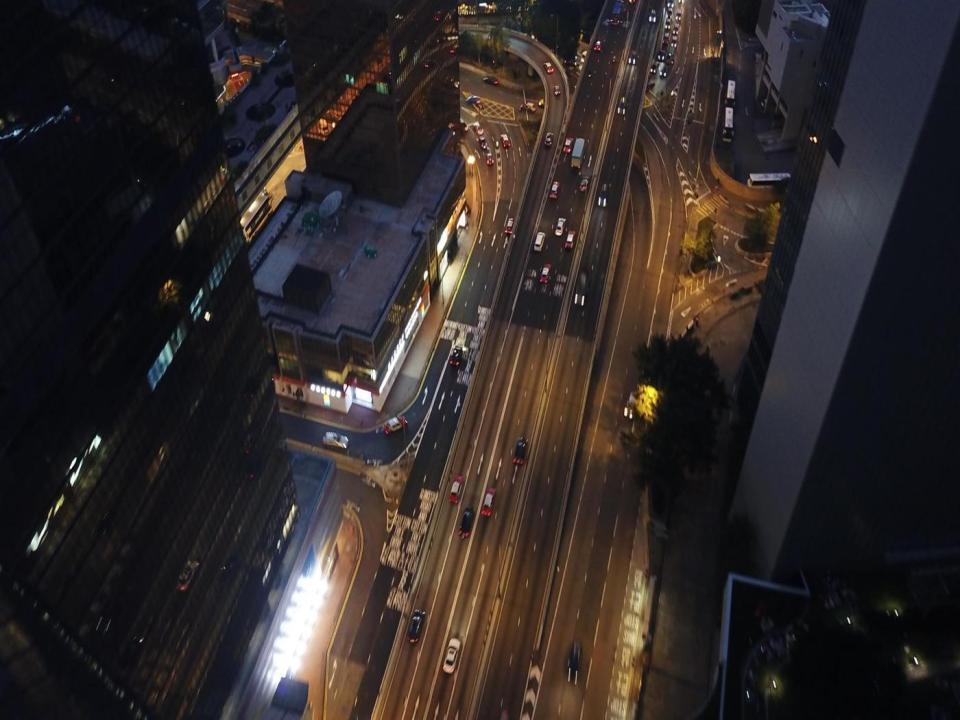bus: (747, 173, 792, 187), (569, 137, 584, 168), (723, 107, 734, 142), (610, 0, 624, 25), (725, 79, 736, 108)
car: (442, 638, 461, 673), (567, 642, 582, 684), (406, 608, 424, 642), (321, 432, 350, 452), (459, 506, 474, 539), (512, 438, 528, 466), (480, 488, 496, 516), (448, 474, 463, 503), (382, 416, 406, 434), (624, 390, 637, 419), (450, 346, 462, 368), (564, 229, 576, 248), (554, 218, 566, 235), (599, 184, 608, 206), (504, 217, 516, 233), (548, 181, 560, 197), (519, 102, 538, 112), (540, 263, 550, 282), (482, 74, 499, 85), (563, 137, 573, 152), (579, 175, 589, 190), (465, 94, 481, 103), (618, 96, 626, 114), (545, 132, 554, 146), (650, 60, 659, 74), (543, 62, 554, 73), (478, 134, 486, 149), (485, 152, 494, 165), (500, 134, 509, 147), (628, 49, 636, 63), (474, 122, 483, 134), (649, 8, 656, 22), (660, 65, 668, 77), (553, 84, 560, 95), (658, 50, 665, 61), (672, 36, 678, 48), (676, 8, 682, 20), (594, 40, 601, 50), (673, 23, 679, 34), (664, 17, 670, 28), (667, 0, 674, 7)
truck: (666, 46, 676, 62)
van: (572, 273, 588, 305), (534, 232, 545, 250), (662, 32, 670, 44), (667, 8, 672, 17)
